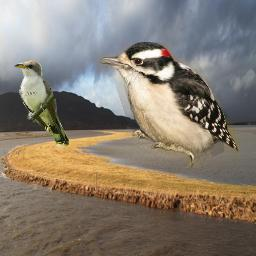Cuckoo: (14, 59, 69, 147)
Woodpecker: (97, 42, 241, 168)
